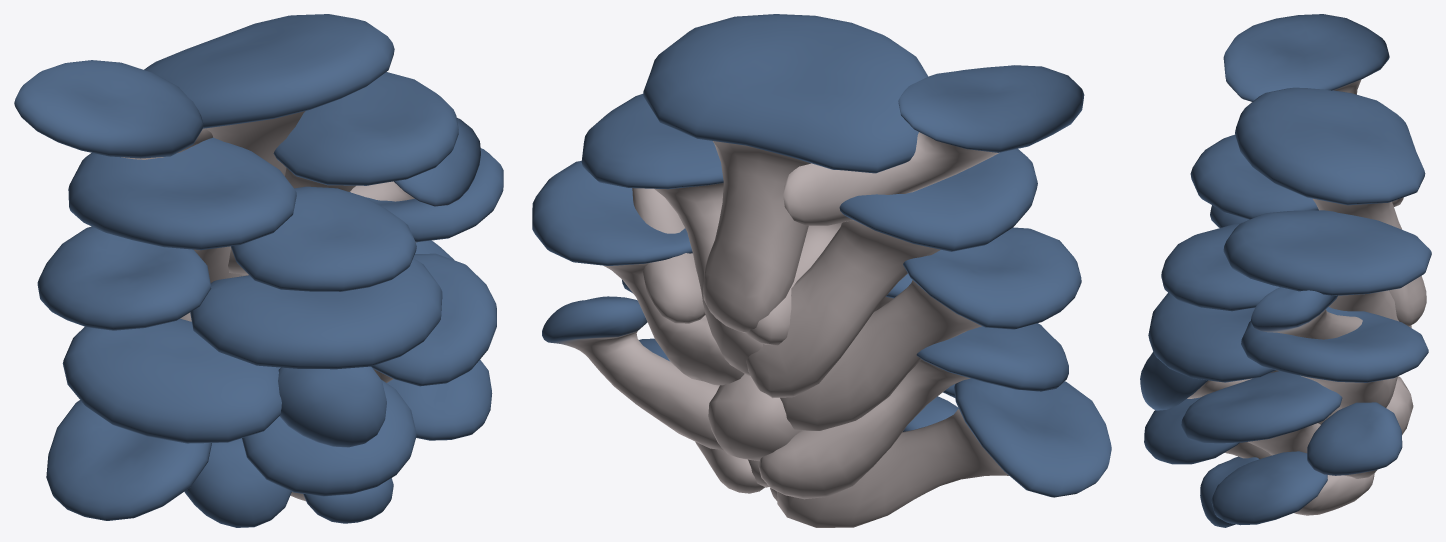
Rendered from oystermushrrom1.fbx.
3 views of the same model, side by side, from view 1: azimuth 30°, elevation 25°; view 2: azimuth 150°, elevation 25°; view 3: azimuth 270°, elevation 25° (orthographic). The views are drawn at different scales.
Parts seen in each view (by area): view 1: Merged_BlueOyster07_withUV3_5; view 2: Merged_BlueOyster07_withUV3_5; view 3: Merged_BlueOyster07_withUV3_5.
Part boxes in pixels (x1,y1,x2,y2): Merged_BlueOyster07_withUV3_5: [14, 14, 503, 527]; Merged_BlueOyster07_withUV3_5: [532, 14, 1111, 527]; Merged_BlueOyster07_withUV3_5: [1140, 14, 1431, 527].
Bounding box in the file's own units: 2.04 × 1.82 × 1.22.
